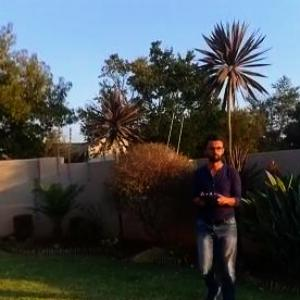follow: (190, 130, 246, 299)
